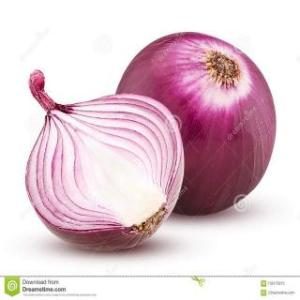onion: (115, 31, 277, 217), (22, 78, 188, 254)
